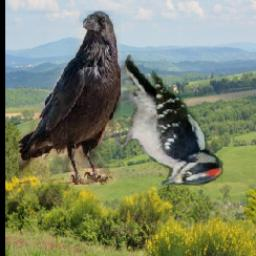Crow: (20, 10, 122, 185)
Woodpecker: (114, 55, 223, 189)
